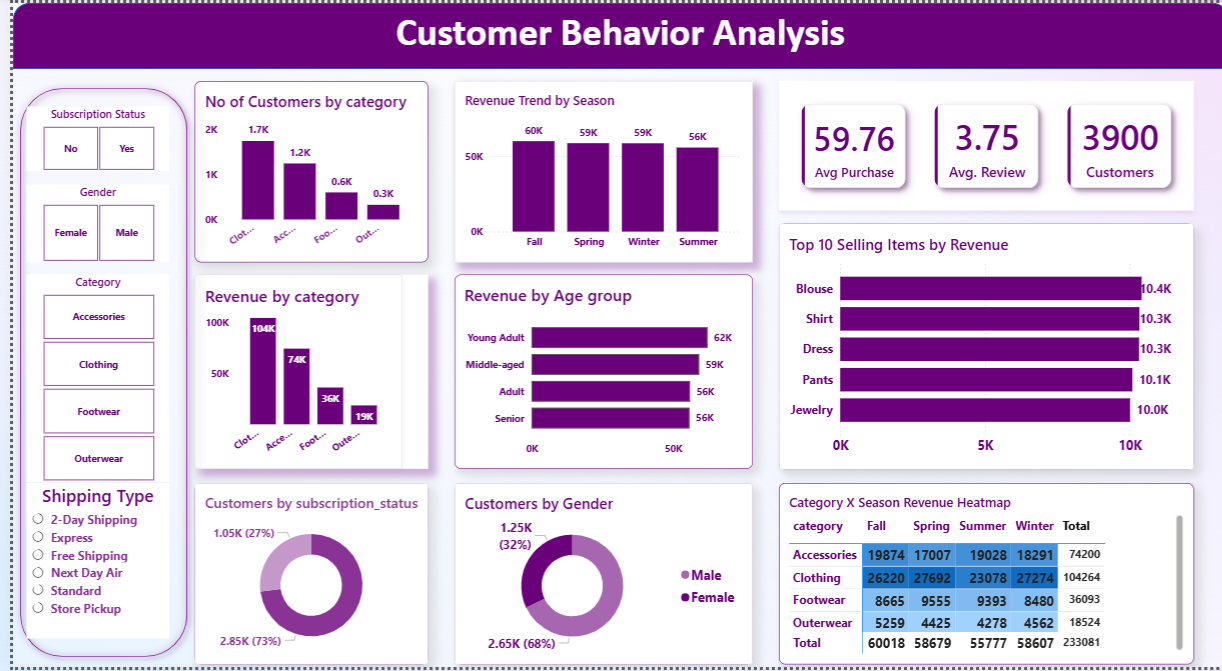

The page's visual inventory and layout, read from the dashboard file:
{"tool":"powerbi","page":{"name":"Page 1","canvas":[1500,820],"ordinal":0},"visuals":[{"type":"cardVisual","fields":{"Data":["public customer1.Average Purchase","public customer1.Average Review","public customer1.Number of Customers"]},"box":[944,96,512,160],"z":0},{"type":"shape","box":[0,0,1500.5,81.5],"z":1000},{"type":"textbox","box":[266.8,0,965.1,83.4],"z":2000},{"type":"textbox","box":[224,336,288,240],"z":3000},{"type":"textbox","box":[544,96,368,224],"z":4000},{"type":"clusteredColumnChart","title":"Revenue by category","fields":{"Category":["public customer1.category"],"Y":["Sum(public customer1.purchase_amount)"]},"box":[224,336,256,240],"z":5000},{"type":"clusteredColumnChart","title":"No of Customers by category","fields":{"Category":["public customer1.category"],"Y":["public customer1.Number of Customers"]},"box":[224,96,288,224],"z":6000},{"type":"shape","box":[0,96,224,720],"z":7000},{"type":"slicer","title":"Subscription Status","fields":{"Values":["public customer1.subscription_status"]},"box":[16,128,176,80],"z":8000},{"type":"slicer","title":"Gender","fields":{"Values":["public customer1.gender"]},"box":[16,224,176,96],"z":9000},{"type":"slicer","title":"Category","fields":{"Values":["public customer1.category"]},"box":[16,336,176,256],"z":10000},{"type":"listSlicer","title":"Shipping Type","fields":{"Values":["public customer1.shipping_type"]},"box":[16,592,176,192],"z":11000},{"type":"clusteredBarChart","title":"Revenue  by Age group","fields":{"Category":["public customer1.age_group"],"Y":["Sum(public customer1.purchase_amount)"]},"box":[544,336,368,240],"z":12000},{"type":"textbox","title":"Revenue by Age Group","box":[224,592,288,224],"z":13000},{"type":"donutChart","title":"Customers by subscription_status","fields":{"Category":["public customer1.subscription_status"],"Y":["CountNonNull(public customer1.customer_id)"]},"box":[224,592,288,224],"z":14000},{"type":"textbox","title":"Revenue by Age Group","box":[224,96,288,224],"z":15000},{"type":"pivotTable","title":"Category X Season Revenue Heatmap","fields":{"Rows":["public customer1.category"],"Columns":["public customer1.season"],"Values":["Sum(public customer1.purchase_amount)"]},"box":[944,592,512,224],"z":16000},{"type":"textbox","title":"Revenue by Age Group","box":[544,592,368,224],"z":17000},{"type":"textbox","title":"Revenue by Age Group","box":[944,592,512,224],"z":18000},{"type":"textbox","title":"Revenue by Age Group","box":[944,272,512,304],"z":19000},{"type":"donutChart","title":"Customers by Gender","fields":{"Category":["public customer1.gender"],"Y":["CountNonNull(public customer1.customer_id)"]},"box":[544,592,368,224],"z":20000},{"type":"barChart","title":"Top 10 Selling Items by Revenue","fields":{"Category":["public customer1.item_purchased"],"Y":["Sum(public customer1.purchase_amount)"]},"box":[944,272,512,304],"z":21000},{"type":"clusteredColumnChart","title":"Revenue Trend  by Season","fields":{"Category":["customer_shopping_behavior.Season"],"Y":["Sum(customer_shopping_behavior.Purchase Amount (USD))"]},"box":[544,96,368,224],"z":22000},{"type":"textbox","title":"Revenue by Age Group","box":[544,336,368,240],"z":23000}]}

Visuals, with their boxes in screenshot pixels (x1, y1, x2, y2), scaled from the page's 1500x820 canvas onto the 1222x671 screenshot:
cardVisual - public customer1.Average Purchase x public customer1.Average Review: 769,79,1186,209
shape: 0,0,1221,67
textbox: 217,0,1004,68
textbox: 182,275,417,471
textbox: 443,79,743,262
"Revenue by category" clusteredColumnChart: 182,275,391,471
"No of Customers by category" clusteredColumnChart: 182,79,417,262
shape: 0,79,182,668
"Subscription Status" slicer: 13,105,156,170
"Gender" slicer: 13,183,156,262
"Category" slicer: 13,275,156,484
"Shipping Type" listSlicer: 13,484,156,642
"Revenue  by Age group" clusteredBarChart: 443,275,743,471
"Revenue by Age Group" textbox: 182,484,417,668
"Customers by subscription_status" donutChart: 182,484,417,668
"Revenue by Age Group" textbox: 182,79,417,262
"Category X Season Revenue Heatmap" pivotTable: 769,484,1186,668
"Revenue by Age Group" textbox: 443,484,743,668
"Revenue by Age Group" textbox: 769,484,1186,668
"Revenue by Age Group" textbox: 769,223,1186,471
"Customers by Gender" donutChart: 443,484,743,668
"Top 10 Selling Items by Revenue" barChart: 769,223,1186,471
"Revenue Trend  by Season" clusteredColumnChart: 443,79,743,262
"Revenue by Age Group" textbox: 443,275,743,471
